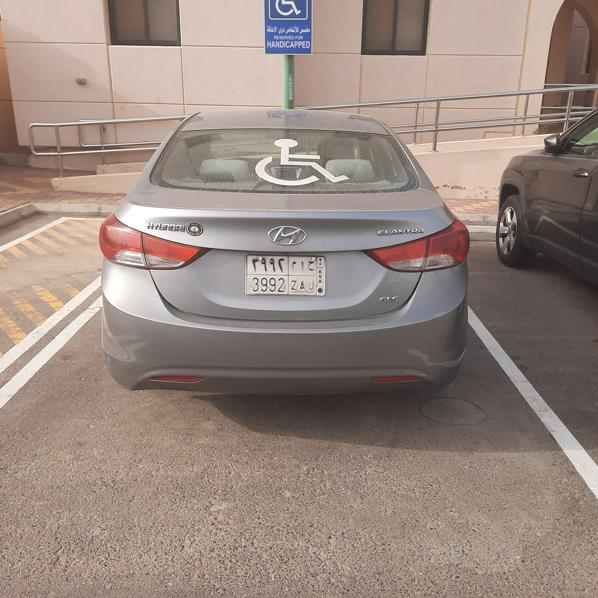numberplate: (245, 254, 324, 295)
